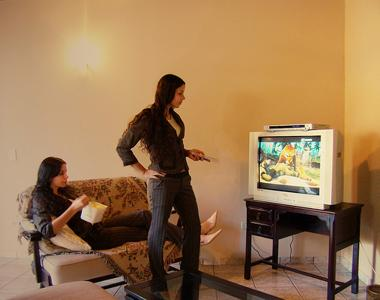person: (116, 73, 208, 300)
